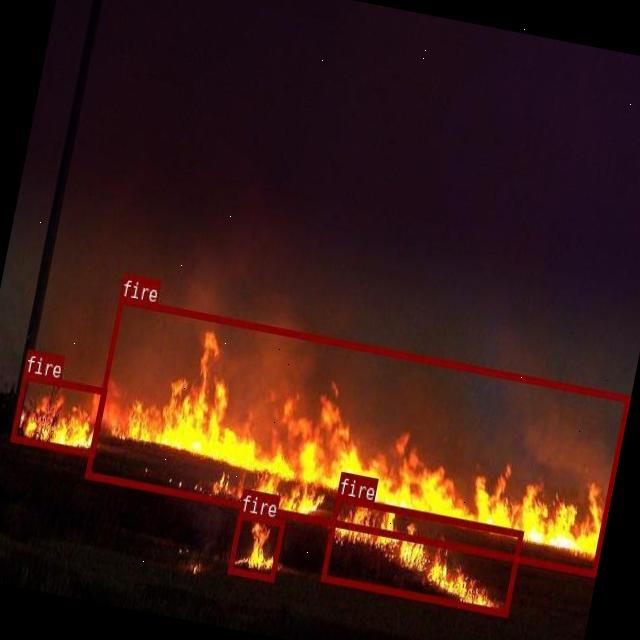fire: (84, 296, 629, 575), (320, 494, 524, 615), (10, 372, 106, 456), (228, 510, 286, 581)
